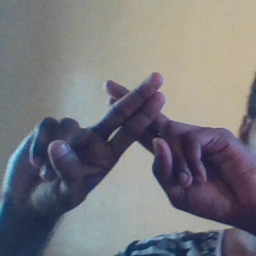F: (73, 64, 201, 187)
